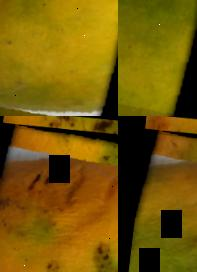PartiallyRipe: (0, 0, 118, 116), (118, 129, 197, 272), (118, 0, 197, 116)
Ripe: (0, 123, 118, 272)
